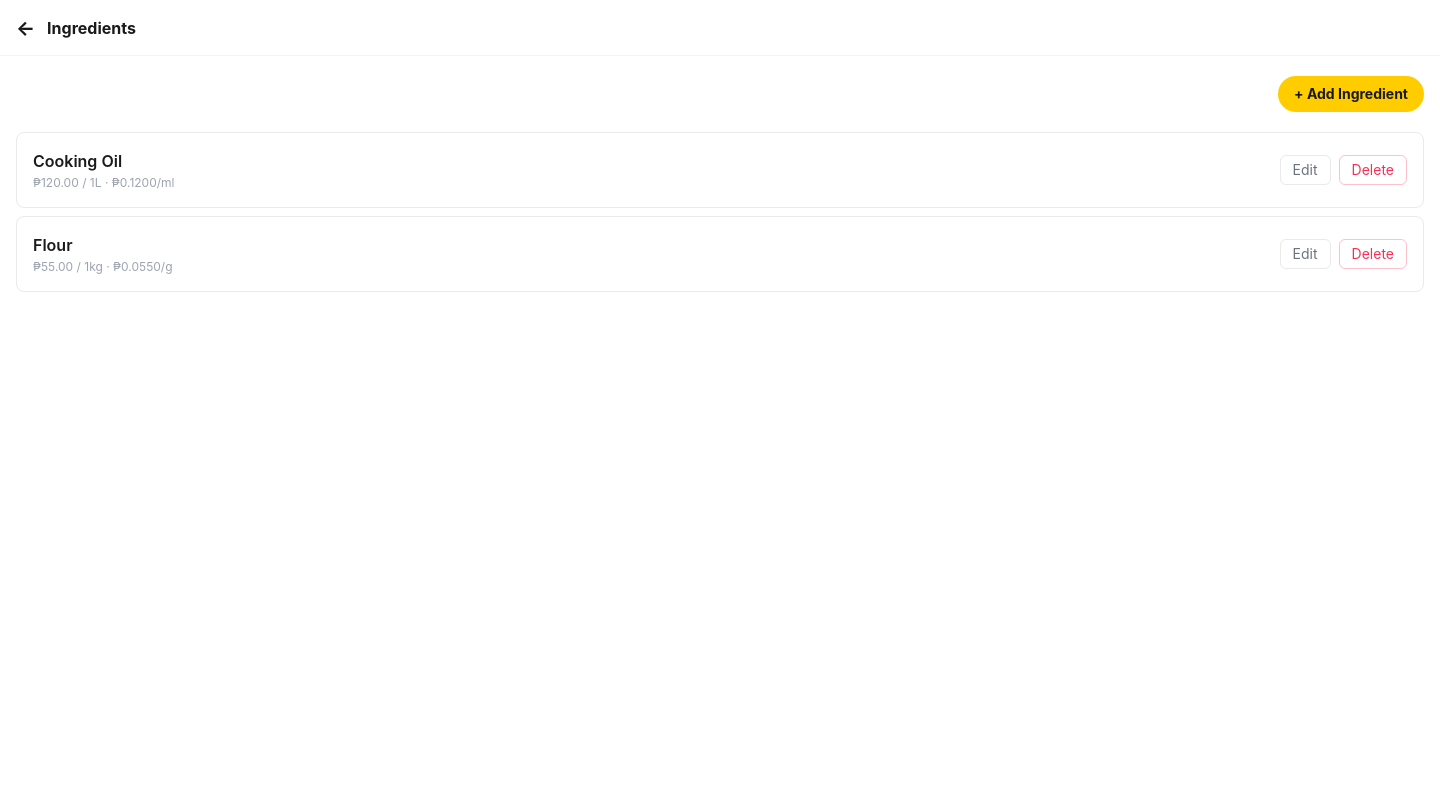
Test: Ingredients › opens add form when Add Ingredient clicked
Expected: the text "Cooking Oil" is shown, [33,151,122,171]
Click the button "+ Add Ingredient".
click(1351, 94)  # box [1278,76,1424,112]
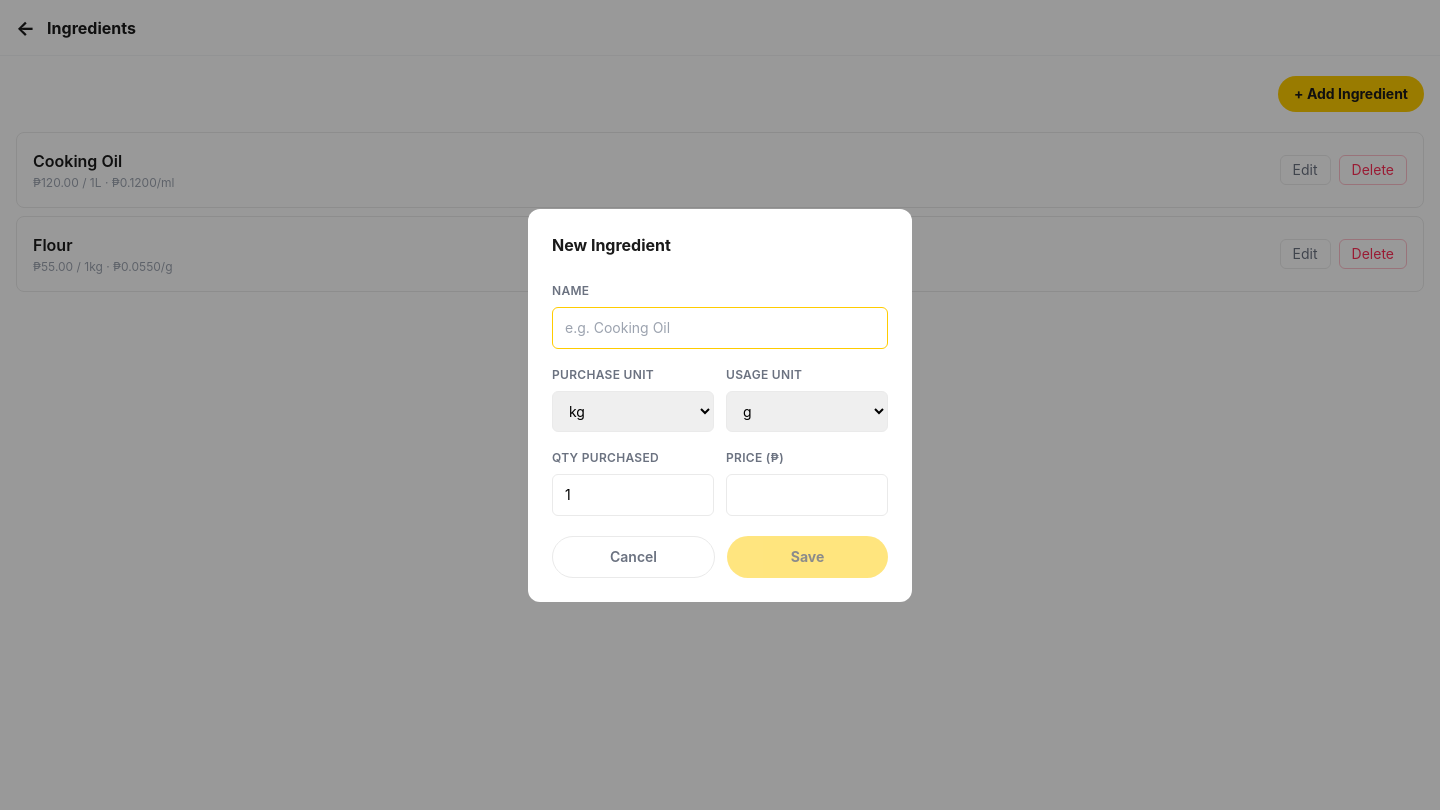
Expected: the heading "New Ingredient" is shown, [552,234,671,254]
